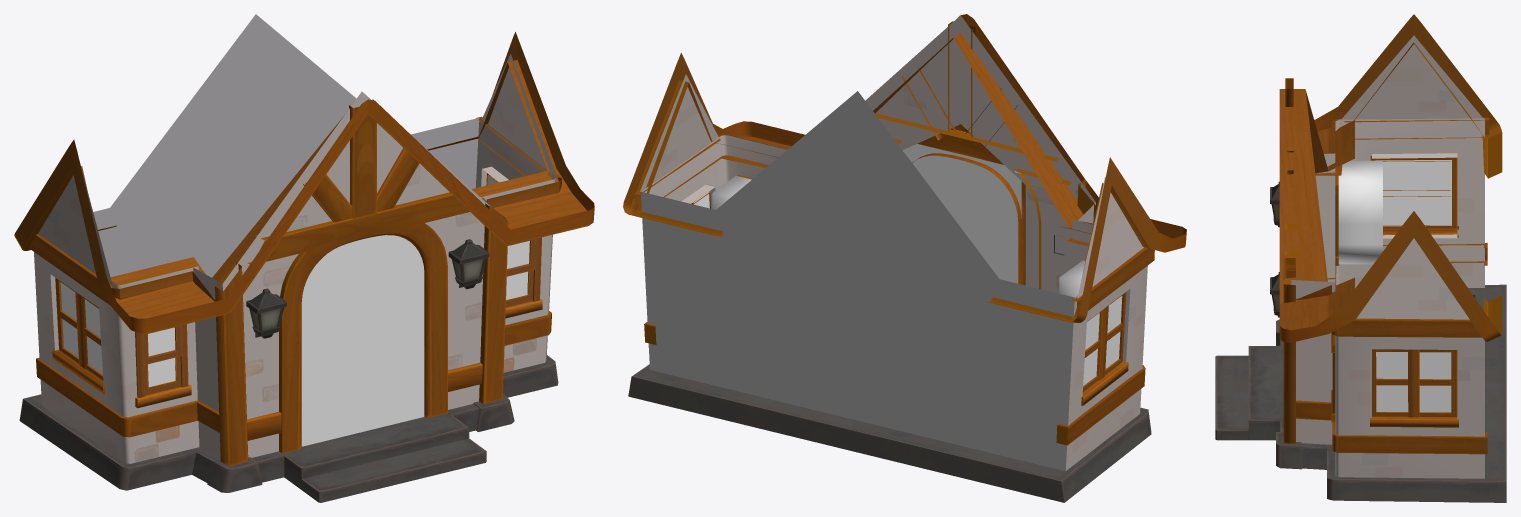
Rendered from standard_walls_3.glb.
3 renders of one model, left to right at view 1: azimuth 30°, elevation 25°; view 2: azimuth 150°, elevation 25°; view 3: azimuth 270°, elevation 25°, orthographic. The views are drawn at different scales.
Visible parts, largest first — view 1: Back_low__mWallA, Door_Pillar_low__mWallB, SoftMesh__mSoftMesh, Base_low_1__mLamp, WindowGlass_Down__mWindowGlass, SideWindow_L__mSideWindow; view 2: Back_low__mWallA, Door_Pillar_low__mWallB, SoftMesh__mSoftMesh, SideWindow_L__mSideWindow, Inside02__mHouseInner; view 3: Back_low__mWallA, Door_Pillar_low__mWallB, SideWindow_L__mSideWindow, Inside02__mHouseInner, Base_low_1__mLamp.
Part boxes in pixels (x1,y1,x2,y2): Back_low__mWallA: [19, 14, 558, 502]; Door_Pillar_low__mWallB: [14, 32, 594, 466]; SoftMesh__mSoftMesh: [301, 235, 424, 446]; Base_low_1__mLamp: [246, 239, 489, 338]; WindowGlass_Down__mWindowGlass: [148, 241, 529, 386]; SideWindow_L__mSideWindow: [60, 174, 498, 374]; Back_low__mWallA: [628, 15, 1151, 502]; Door_Pillar_low__mWallB: [623, 14, 1186, 445]; SoftMesh__mSoftMesh: [903, 144, 1021, 283]; SideWindow_L__mSideWindow: [693, 191, 1122, 385]; Inside02__mHouseInner: [712, 176, 1085, 297]; Back_low__mWallA: [1215, 35, 1506, 502]; Door_Pillar_low__mWallB: [1279, 14, 1502, 454]; SideWindow_L__mSideWindow: [1376, 160, 1451, 412]; Inside02__mHouseInner: [1338, 160, 1382, 264]; Base_low_1__mLamp: [1270, 181, 1279, 317].
Bounding box in the file's own units: 45.84 × 33.73 × 27.
Materials: 8 (3 with a texture image).
